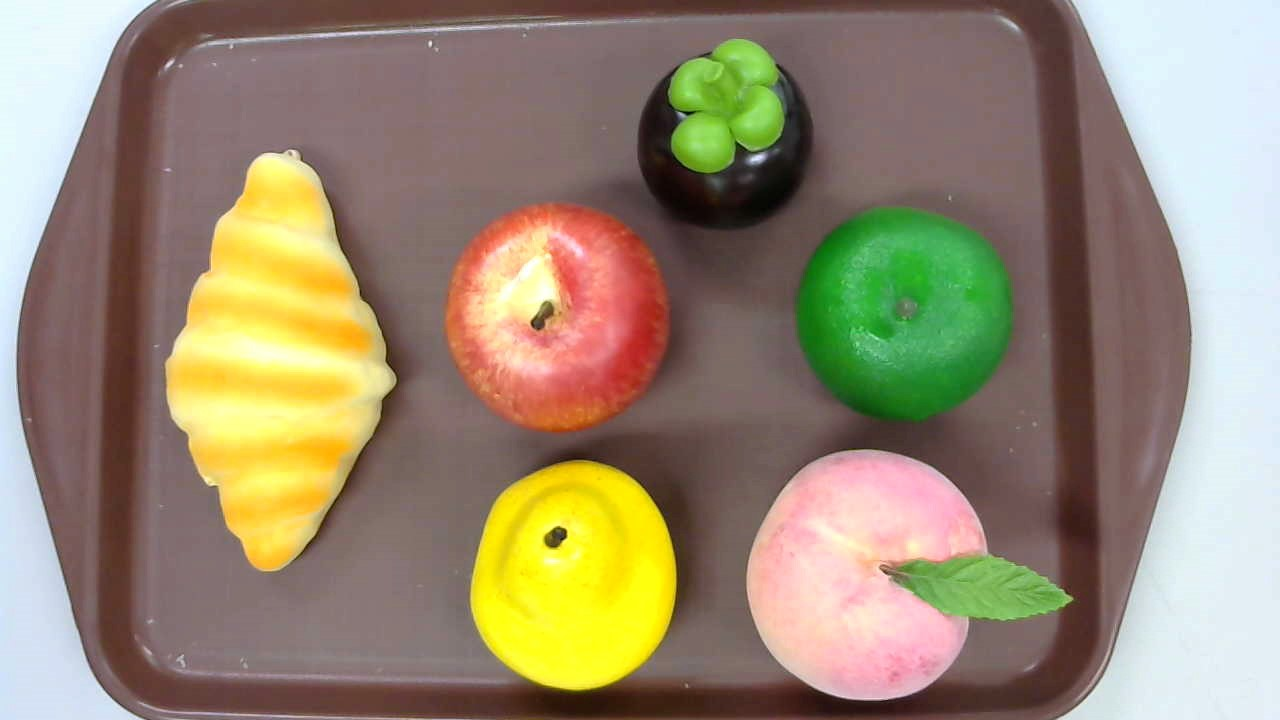croissant: (163, 148, 397, 573)
green orange: (794, 205, 1012, 421)
mangosteen: (636, 38, 815, 229)
peaches: (747, 447, 1073, 703)
red apple: (444, 203, 673, 433)
yellow pear: (469, 459, 678, 693)
